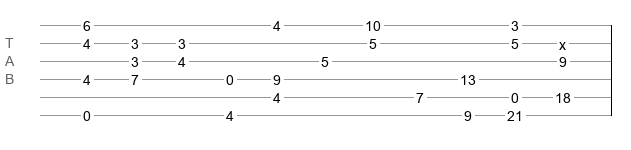0: (83, 108, 91, 118), (226, 72, 234, 82), (511, 90, 519, 100)
10: (365, 18, 381, 28)
13: (460, 72, 476, 82)
18: (555, 90, 571, 100)
21: (507, 108, 523, 118)
3: (131, 36, 139, 46), (131, 54, 139, 64), (178, 36, 186, 46), (511, 18, 519, 28)
4: (83, 72, 91, 82), (83, 36, 91, 46), (178, 54, 186, 64), (226, 108, 234, 118), (273, 18, 281, 28), (273, 90, 281, 100)
5: (321, 54, 329, 64), (369, 36, 377, 46), (511, 36, 519, 46)
6: (83, 18, 91, 28)
7: (131, 72, 139, 82), (416, 90, 424, 100)
9: (273, 72, 281, 82), (464, 108, 472, 118), (559, 54, 567, 64)
x: (559, 37, 566, 45)
